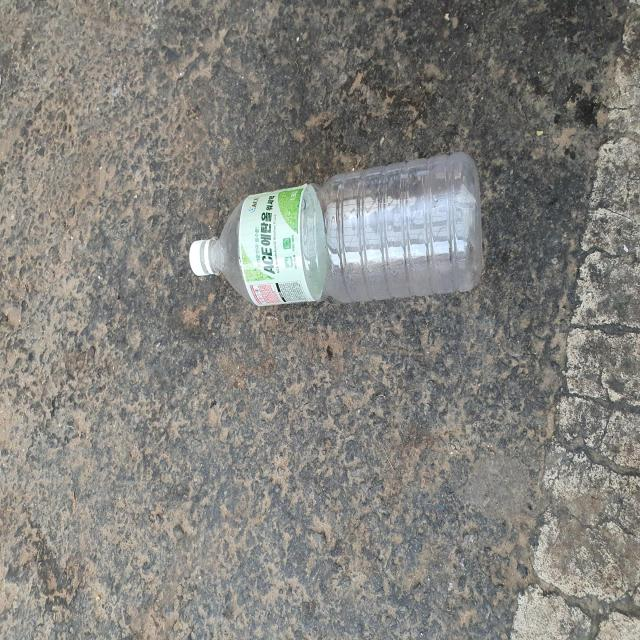plastic: (189, 152, 483, 306)
